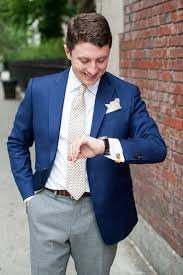F_M_suit jacket: (8, 69, 176, 249)
F_belt: (36, 177, 110, 208)
